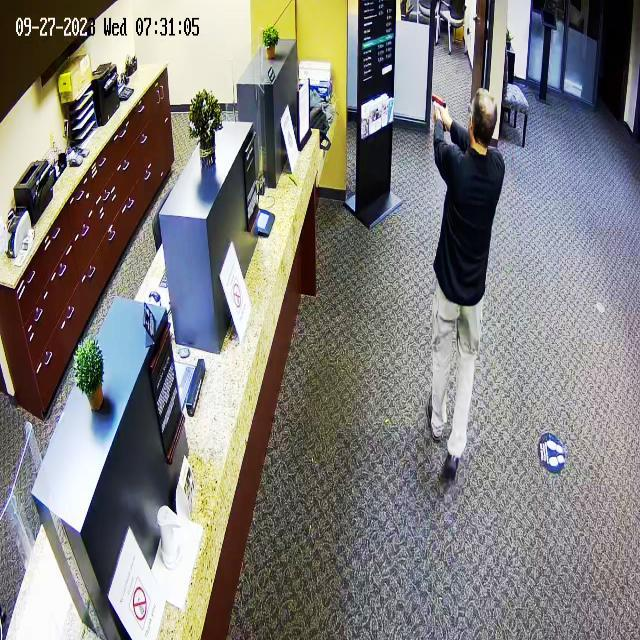Gun: (418, 88, 454, 124)
